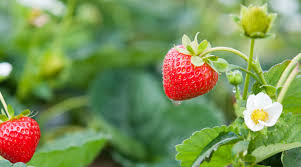strawberry: (159, 40, 219, 102), (1, 110, 41, 166)
